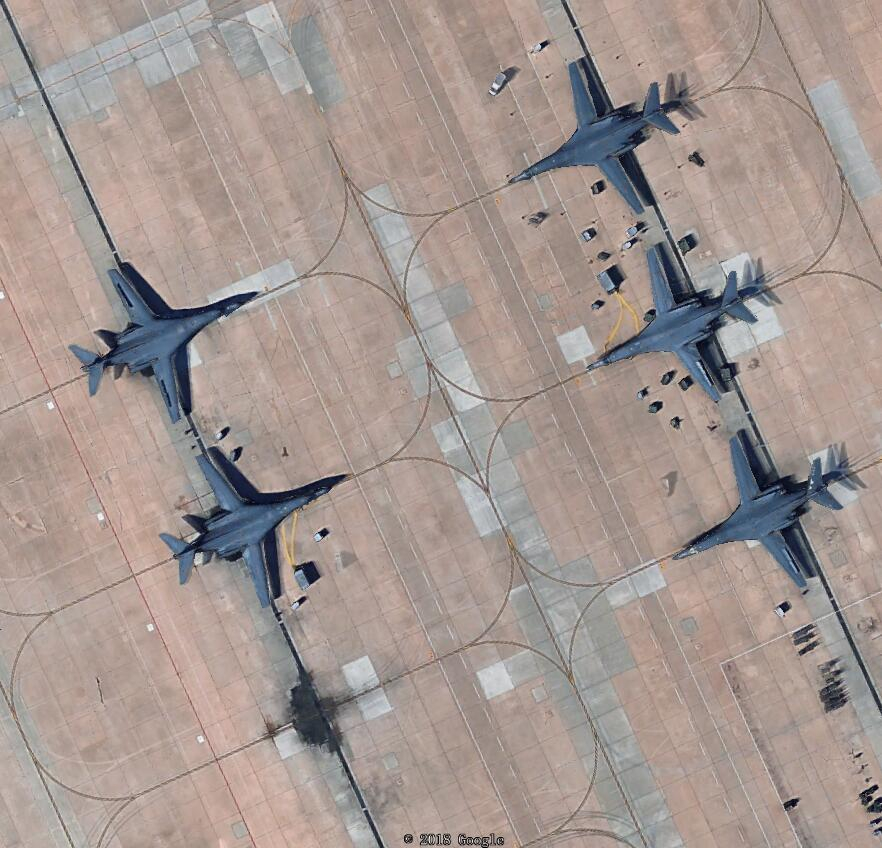A10: (501, 59, 711, 222), (66, 268, 270, 426), (589, 241, 784, 406), (675, 432, 866, 599), (161, 451, 357, 608)
